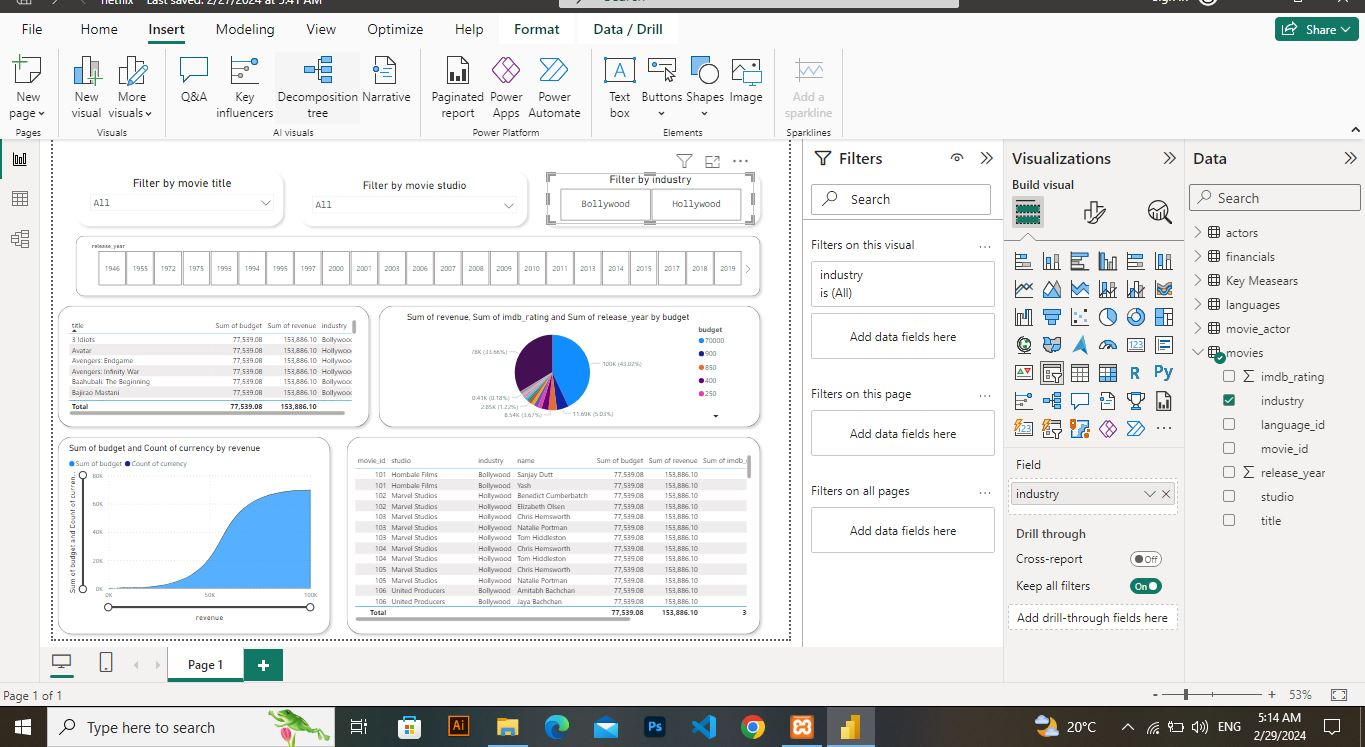

The page's visual inventory and layout, read from the dashboard file:
{"tool":"powerbi","page":{"name":"Page 1","canvas":[1400,950],"ordinal":0},"visuals":[{"type":"shape","box":[34.2,174.8,1318.6,133],"z":0},{"type":"slicer","fields":{"Values":["movies.release_year"]},"box":[60.8,191.9,1271.1,93.1],"z":1000},{"type":"shape","box":[34.2,51.3,412.3,123.5],"z":2000},{"type":"slicer","title":"Filter by movie title","fields":{"Values":["movies.title"]},"box":[60.8,70.3,368.6,87.4],"z":3000},{"type":"shape","box":[459.8,51.3,450.3,123.5],"z":4000},{"type":"slicer","title":"Filter by movie studio","fields":{"Values":["movies.studio"]},"box":[482.6,76,408.5,81.7],"z":5000},{"type":"shape","box":[919.6,51.3,433.2,123.5],"z":6000},{"type":"slicer","title":"Filter by industry","fields":{"Values":["movies.industry"]},"box":[938.6,64.6,393.3,96.9],"z":7000},{"type":"shape","box":[609.9,307.8,742.9,248.9],"z":8000},{"type":"pieChart","fields":{"Category":["financials.budget"],"Y":["financials.revenue","movies.imdb_rating","movies.release_year"]},"box":[666.9,328.7,628.9,210.9],"z":9000},{"type":"shape","box":[0,307.8,609.9,248.9],"z":10000},{"type":"tableEx","fields":{"Values":["movies.title","financials.budget","financials.revenue","movies.industry"]},"box":[24.7,338.2,556.7,191.9],"z":11000},{"type":"shape","box":[0,556.7,535.8,393.3],"z":12000},{"type":"ribbonChart","fields":{"Category":["financials.revenue"],"Y":["financials.budget","financials.currency"]},"box":[24.7,577.6,484.5,343.9],"z":13000},{"type":"shape","box":[549.1,556.7,803.7,393.3],"z":14000},{"type":"tableEx","fields":{"Values":["movies.movie_id","movies.studio","movies.industry","actors.name","financials.budget","financials.revenue","movies.imdb_rating","movies.title"]},"box":[568.1,594.7,763.8,326.8],"z":15000}]}

Visuals, with their boxes on the page's 1400x950 design canvas (x1, y1, x2, y2). These are canvas units, not pixel positions in the 1365x747 screenshot, which may show the page scaled, cropped or inside an application window:
shape: x1=34, y1=175, x2=1353, y2=308
slicer - movies.release_year: x1=61, y1=192, x2=1332, y2=285
shape: x1=34, y1=51, x2=446, y2=175
"Filter by movie title" slicer: x1=61, y1=70, x2=429, y2=158
shape: x1=460, y1=51, x2=910, y2=175
"Filter by movie studio" slicer: x1=483, y1=76, x2=891, y2=158
shape: x1=920, y1=51, x2=1353, y2=175
"Filter by industry" slicer: x1=939, y1=65, x2=1332, y2=162
shape: x1=610, y1=308, x2=1353, y2=557
pieChart - financials.budget x financials.revenue: x1=667, y1=329, x2=1296, y2=540
shape: x1=0, y1=308, x2=610, y2=557
tableEx - movies.title x financials.budget: x1=25, y1=338, x2=581, y2=530
shape: x1=0, y1=557, x2=536, y2=950
ribbonChart - financials.revenue x financials.budget: x1=25, y1=578, x2=509, y2=922
shape: x1=549, y1=557, x2=1353, y2=950
tableEx - movies.movie_id x movies.studio: x1=568, y1=595, x2=1332, y2=922
